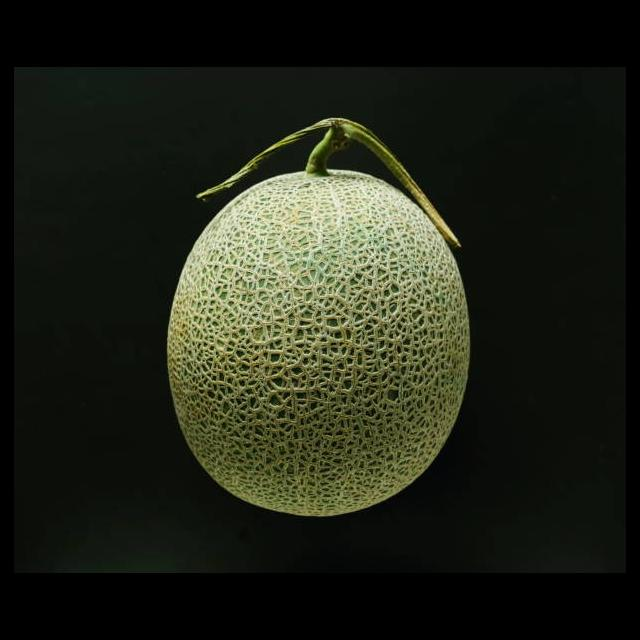Hami Melon: (168, 117, 470, 516)
